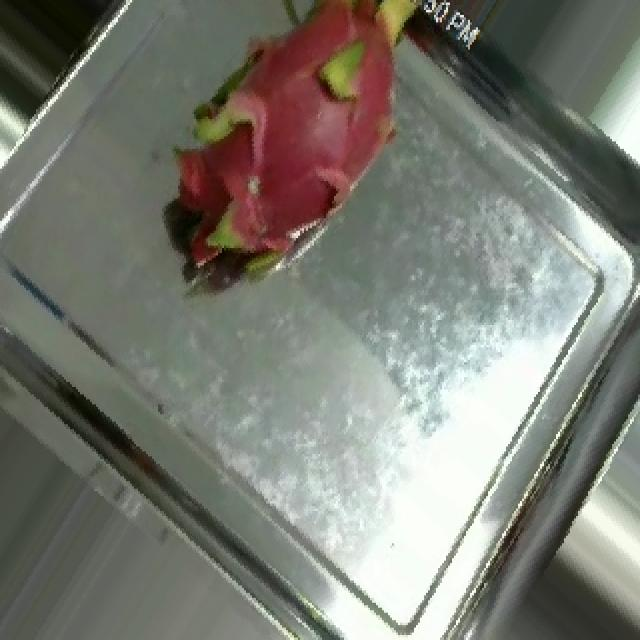fruit: (82, 0, 500, 327)
